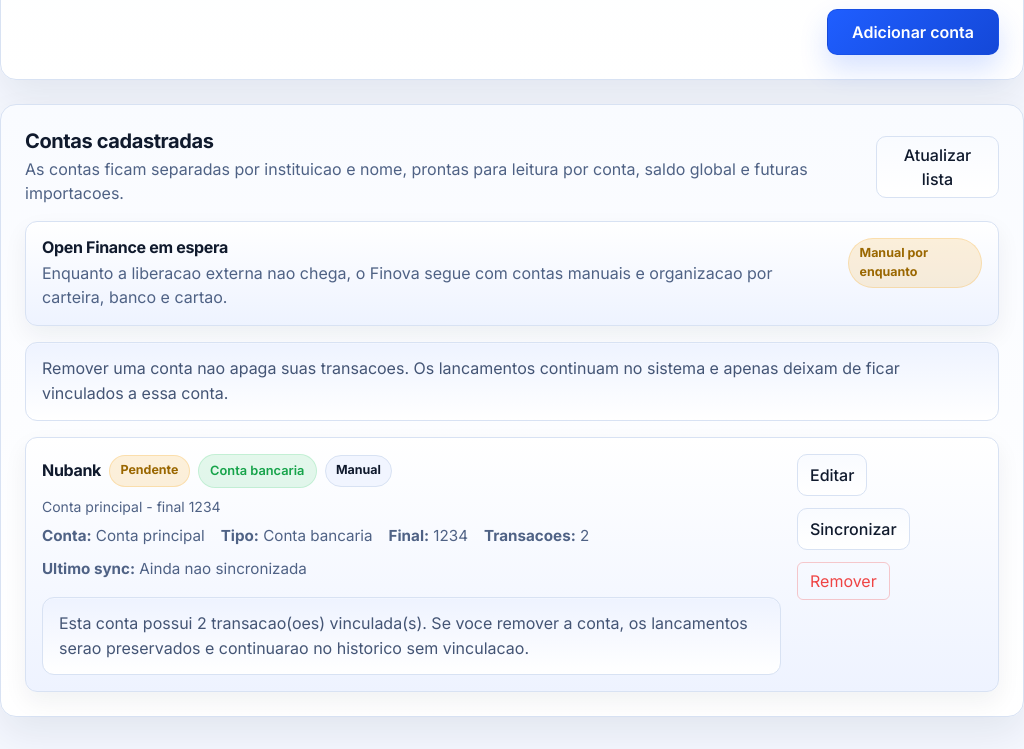
FinancialAccounts page › edits a registered financial account
(page scrolled)
Expected: the heading "Nubank" is shown, [42,461,101,480]
Click the button "Editar" at coordinates (832, 475), box [797,454,867,496]
(page scrolled)
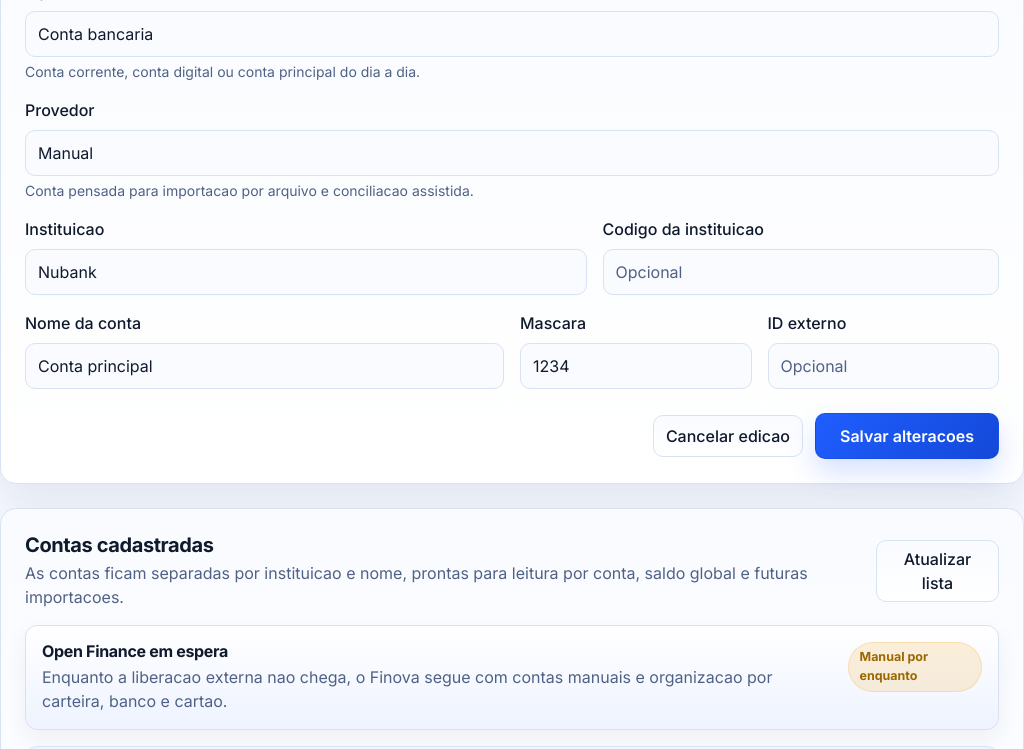
Replace the text in the field labelled "Nome da conta" with "Reserva imediata" at coordinates (264, 366), box [25,343,504,389]
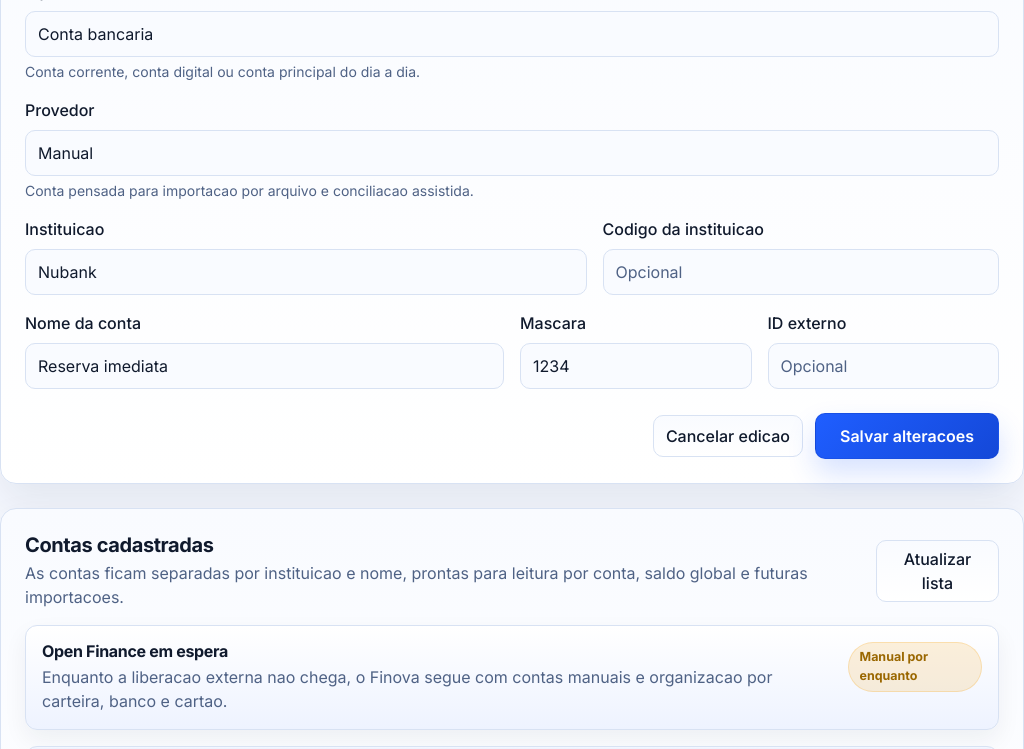
Type "7777" into the field labelled "Mascara" at coordinates (636, 366), box [520,343,752,389]
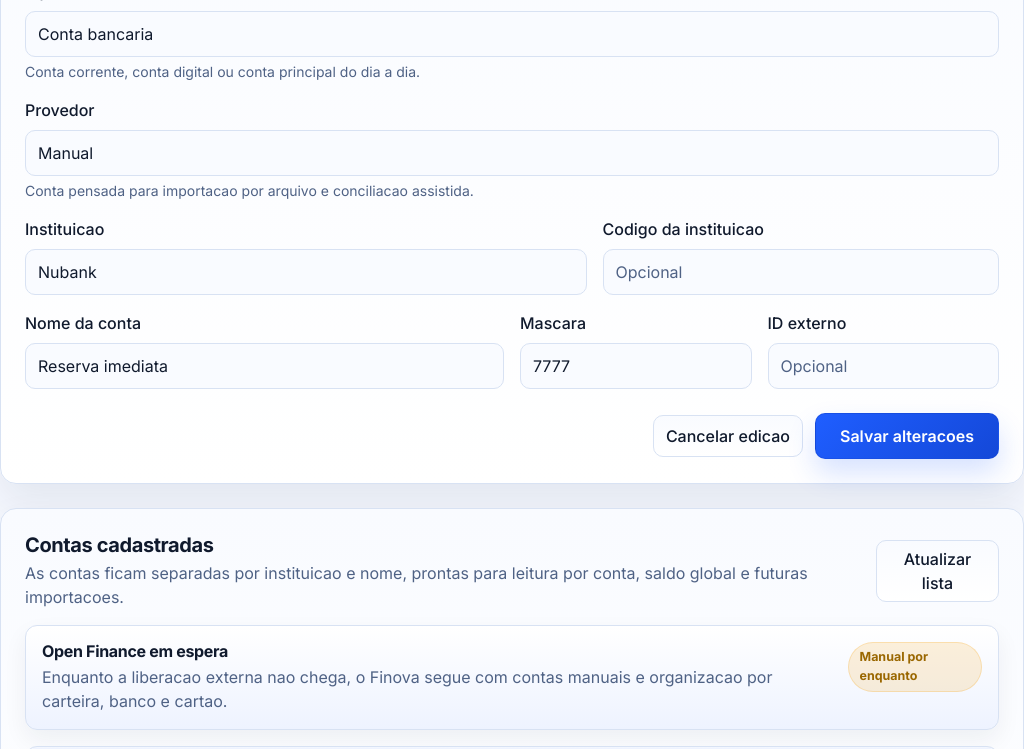
Click the button "Salvar alteracoes" at coordinates (907, 436), box [815,413,999,459]
(page scrolled)
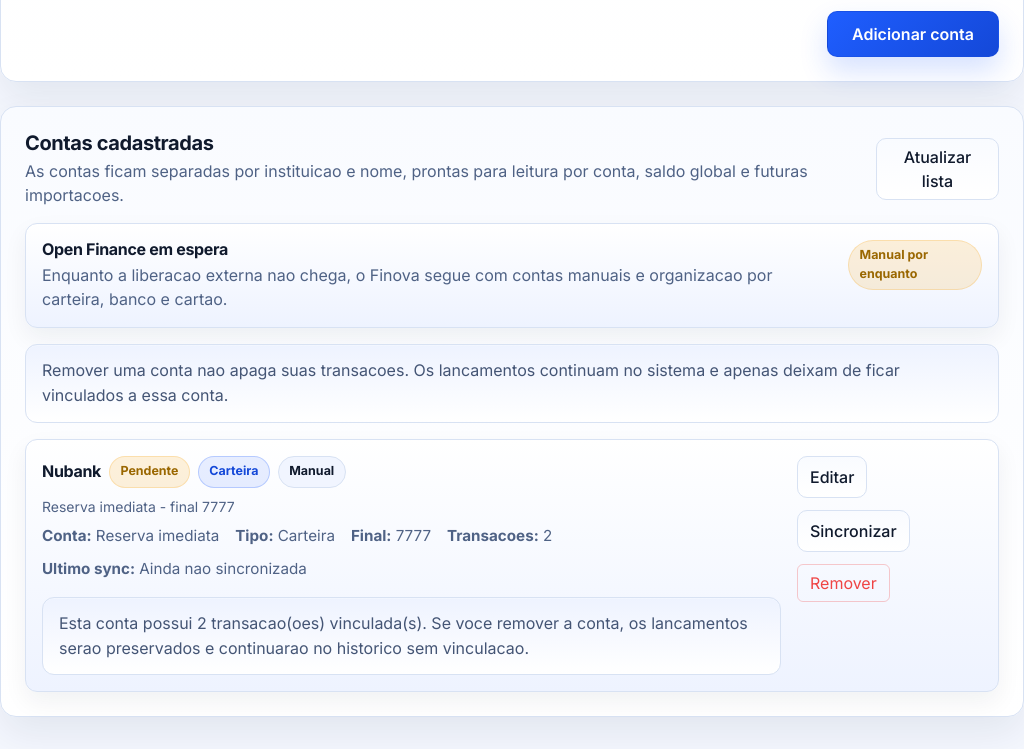
Now the text "Reserva imediata" is shown, box [96,526,219,544]
